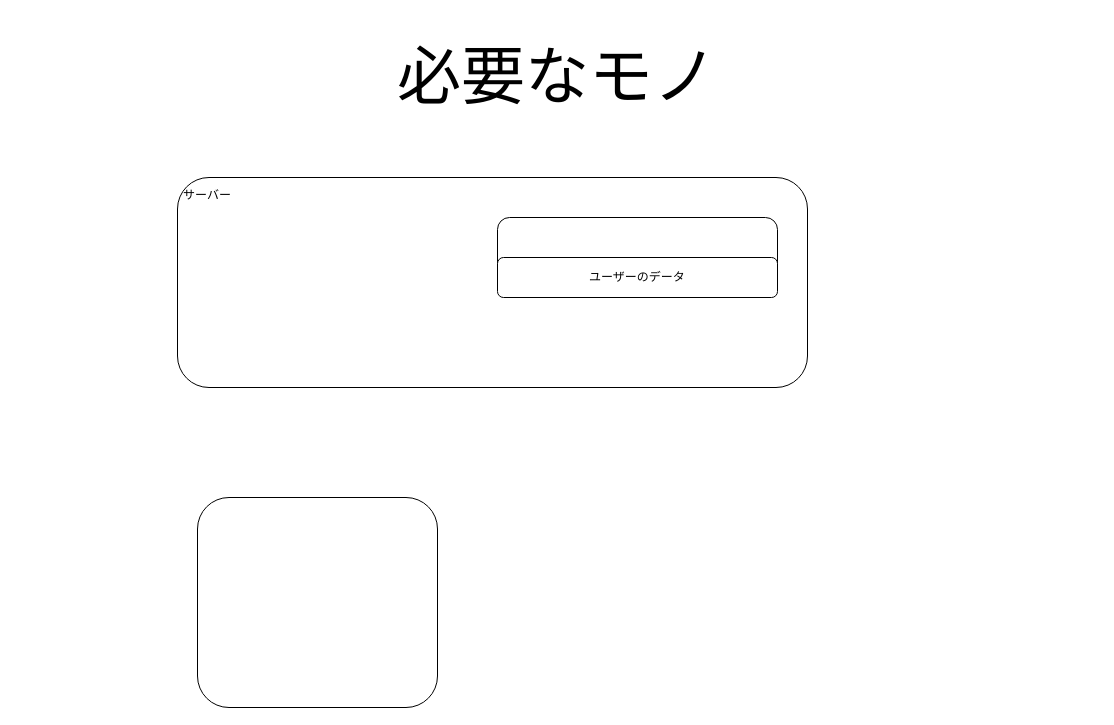
Some shapes in this 1114 by 725 pixel diagram are drawn without their labels. The box of each missing label's shape, as (x1, y1, x2, y2) in pixels:
クライアント: (196, 496, 438, 708)
ユーザーのデータを std::vectorで持ってるやつ: (496, 216, 778, 298)
